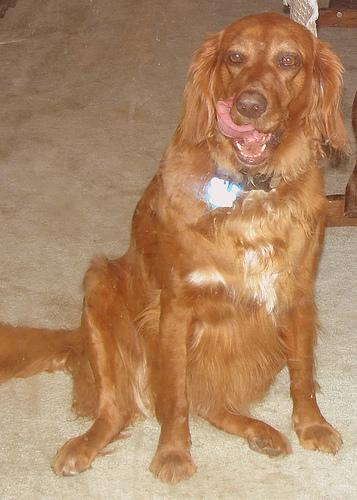Irish_setter: (0, 11, 345, 483)
